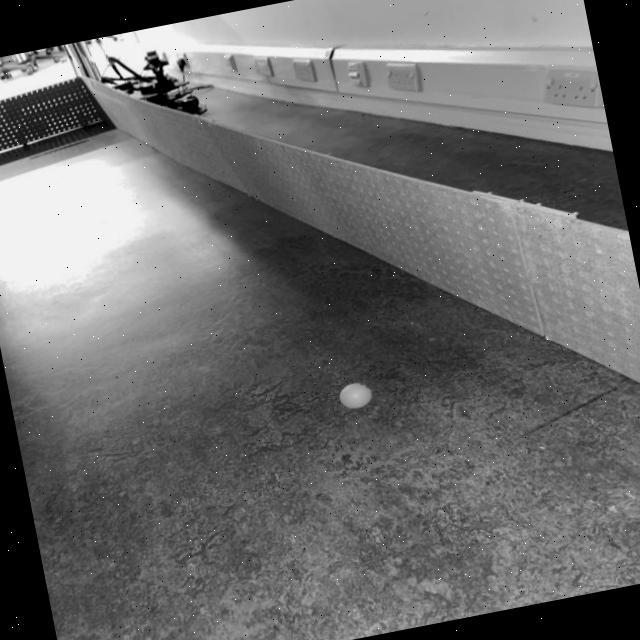ping-pong-ball: (333, 379, 372, 413)
